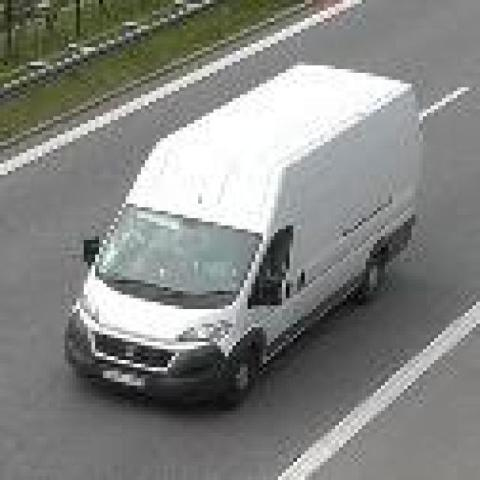van: (68, 64, 419, 402)
